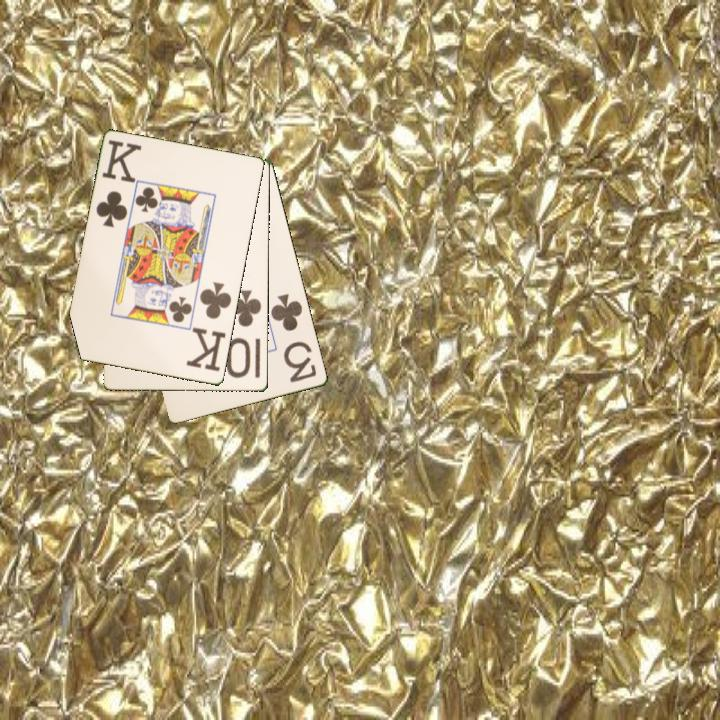10c: (226, 287, 264, 381)
3c: (267, 290, 320, 386)
Kc: (184, 278, 235, 374), (92, 137, 143, 231)
